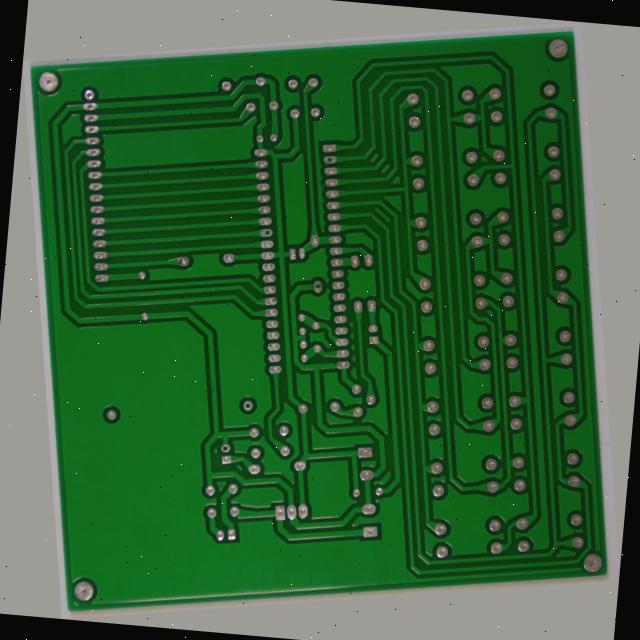missing_hole: (349, 131, 369, 148), (315, 272, 330, 290), (215, 395, 231, 411), (267, 204, 283, 219), (182, 441, 195, 455)
